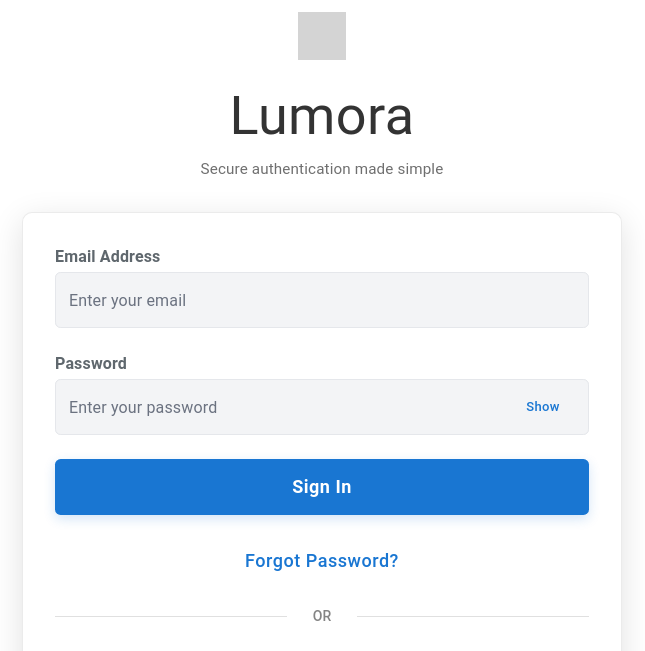
Scenario: LumoraLogin Component › Form Validation › should show validation errors for empty form submission
The width and height of the screenshot is (645, 651).
Click the button "Sign In" at (322, 487), box x1=55 y1=460 x2=589 y2=515
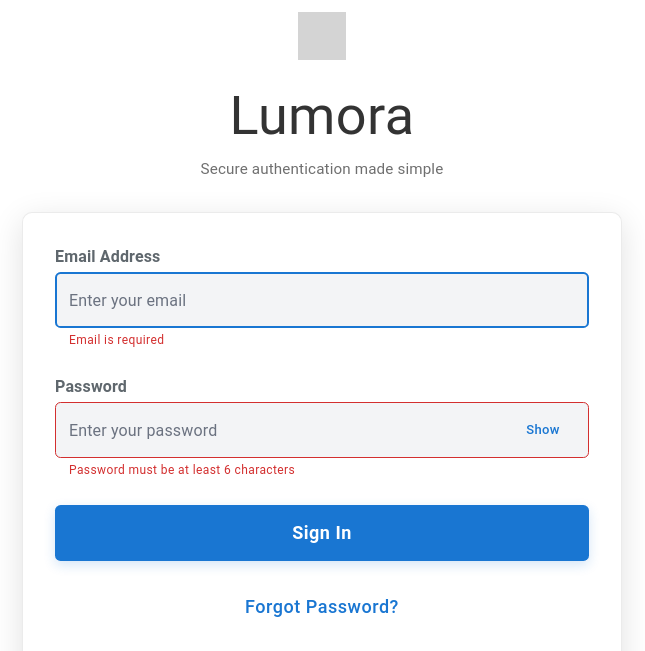
Expected: the text "Email is required" is shown, x1=69 y1=334 x2=164 y2=348
